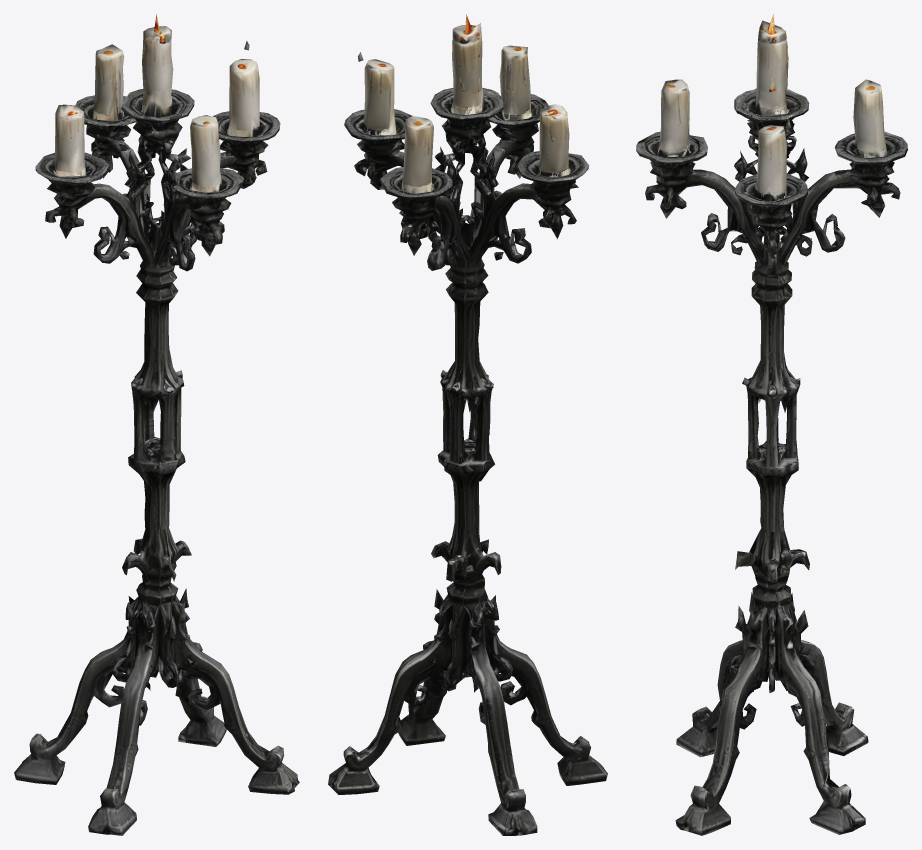
The model's file is Candle.fbx.
The picture shows the model from 3 angles, left to right: view 1: azimuth 30°, elevation 25°; view 2: azimuth 150°, elevation 25°; view 3: azimuth 270°, elevation 25°; orthographic projection.
Parts seen in each view (by area): view 1: texture_mapping; view 2: texture_mapping; view 3: texture_mapping.
Part boxes in pixels (<box>): texture_mapping: <box>14,14,299,835</box>; texture_mapping: <box>328,14,607,835</box>; texture_mapping: <box>636,14,907,835</box>.
Size of the model in its own units: 32.31 by 101 by 32.12.
1 material, 1 textured.
